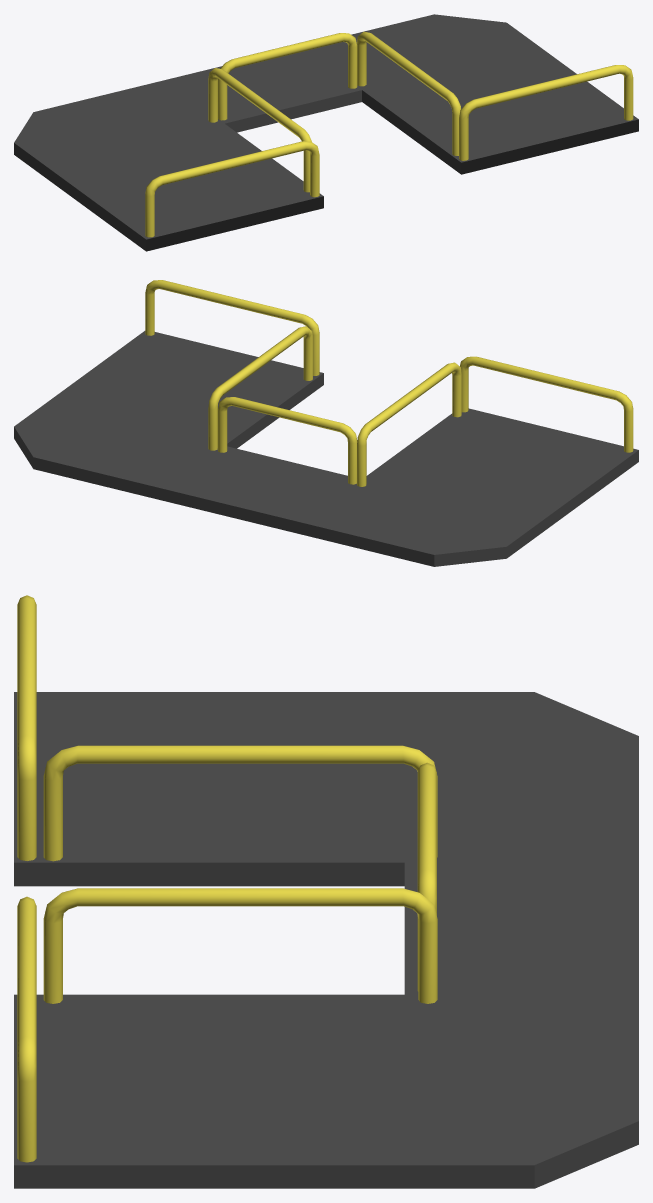
Rendered from Platform_01.fbx.
3 renders of one model, top to bottom at view 1: azimuth 30°, elevation 25°; view 2: azimuth 150°, elevation 25°; view 3: azimuth 270°, elevation 25°, orthographic. The views are drawn at different scales.
Parts seen in each view (by area): view 1: Platform_01; view 2: Platform_01; view 3: Platform_01.
Boxes of the visible parts, <box> form: Platform_01: <box>14,14,638,251</box>; Platform_01: <box>14,280,638,566</box>; Platform_01: <box>14,595,638,1188</box>.
Bounding box in the file's own units: 8.6 × 1.14 × 4.8.
